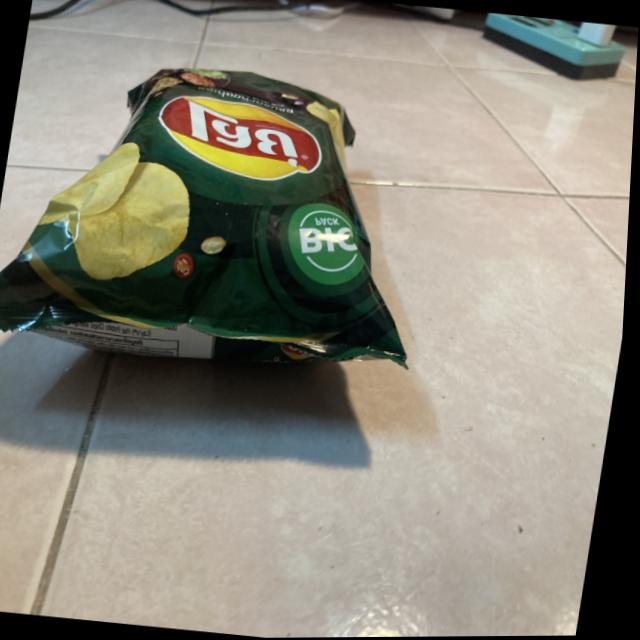Laygreen: (0, 24, 438, 474)
